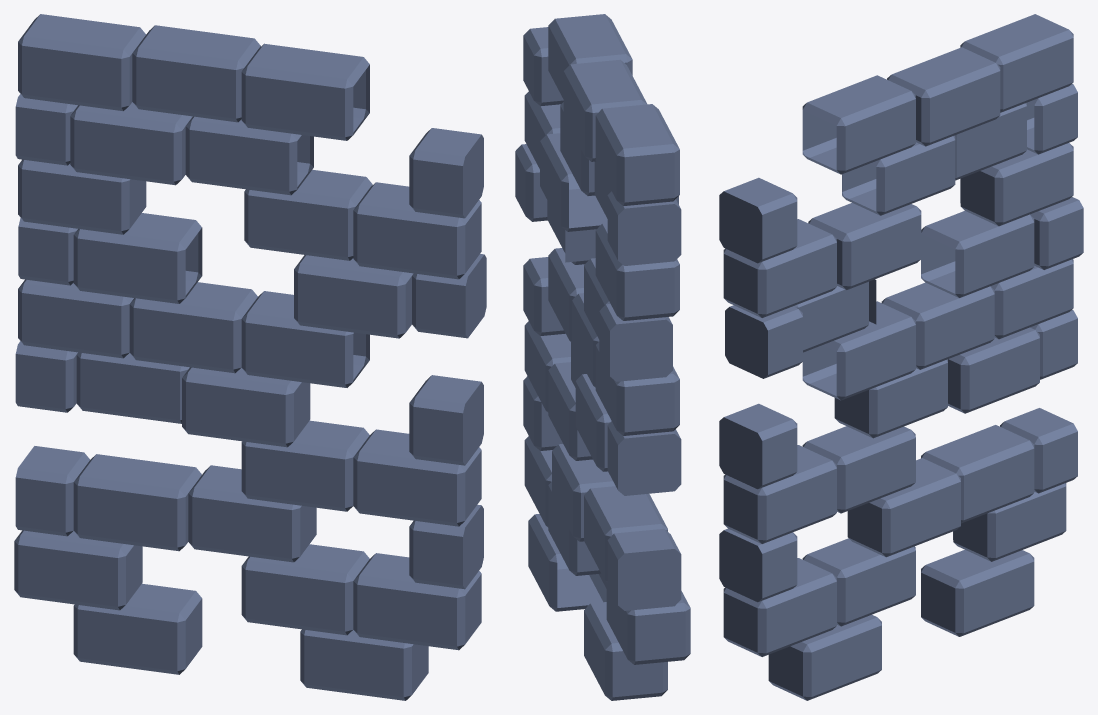
Rendered from n2_brick_wall_lev2.083.glb.
3 renders of one model, left to right at view 1: azimuth 30°, elevation 25°; view 2: azimuth 150°, elevation 25°; view 3: azimuth 270°, elevation 25°, orthographic. The views are drawn at different scales.
Parts seen in each view (by area): view 1: n2_brick_wall_lev2.083; view 2: n2_brick_wall_lev2.083; view 3: n2_brick_wall_lev2.083.
Part boxes in pixels (<box>): n2_brick_wall_lev2.083: <box>14,14,486,700</box>; n2_brick_wall_lev2.083: <box>515,14,690,700</box>; n2_brick_wall_lev2.083: <box>719,14,1083,700</box>.
Size of the model in its own units: 1.7 by 3.06 by 1.79.
